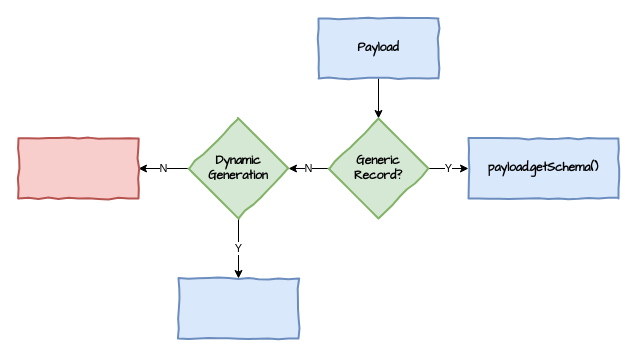
Some shapes in this 636 by 356 pixel diagram are drawn without their labels. The centre of each missing label's shape, as x and y in pixels:
"Error" goes at point (78, 168).
"ReflectData.get()" goes at point (238, 308).
